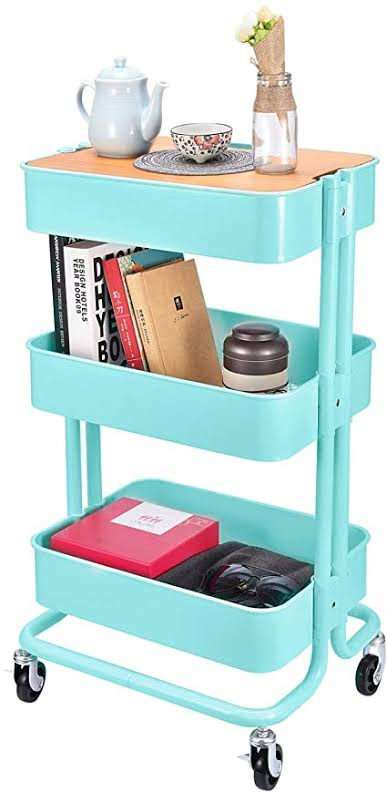Carts: (12, 137, 382, 793)
